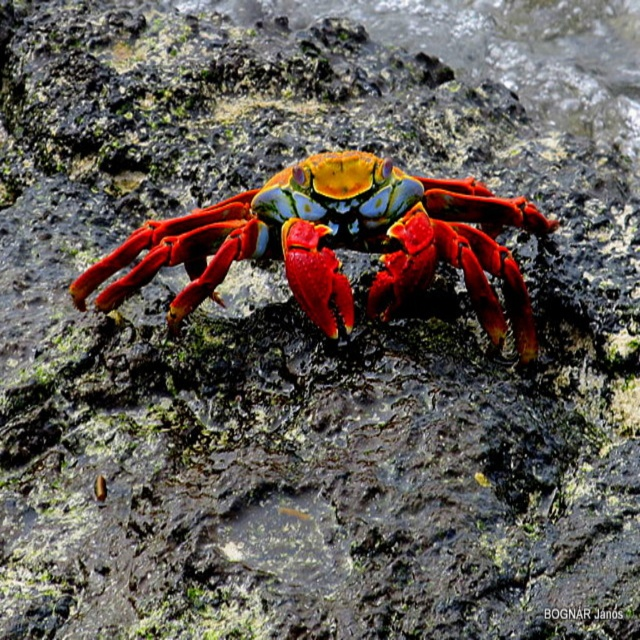Crab: (69, 146, 558, 370)
